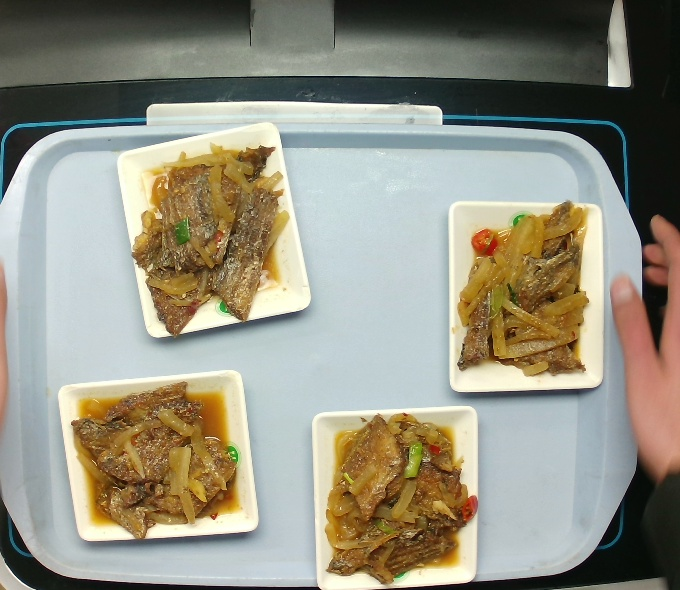wcq-DaiYu: (134, 144, 279, 330), (72, 386, 244, 532), (328, 412, 470, 581), (458, 210, 593, 386)
